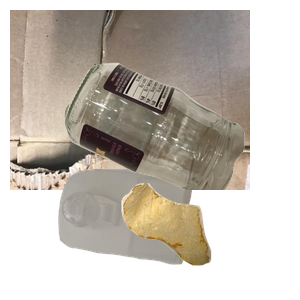cardboard: (10, 10, 250, 190)
glass: (62, 60, 300, 240)
plastic: (56, 166, 241, 300)
trash: (119, 181, 300, 300)
